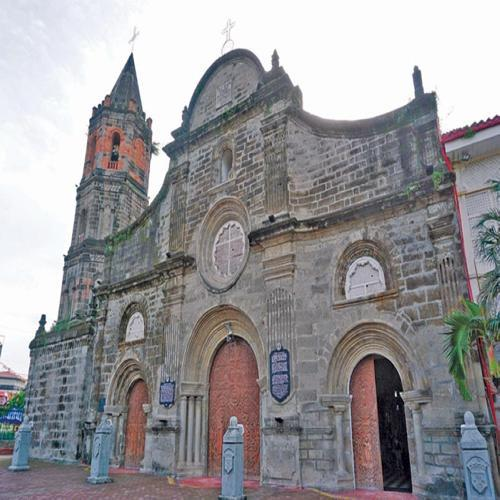Barasoain Church: (16, 20, 492, 490)
